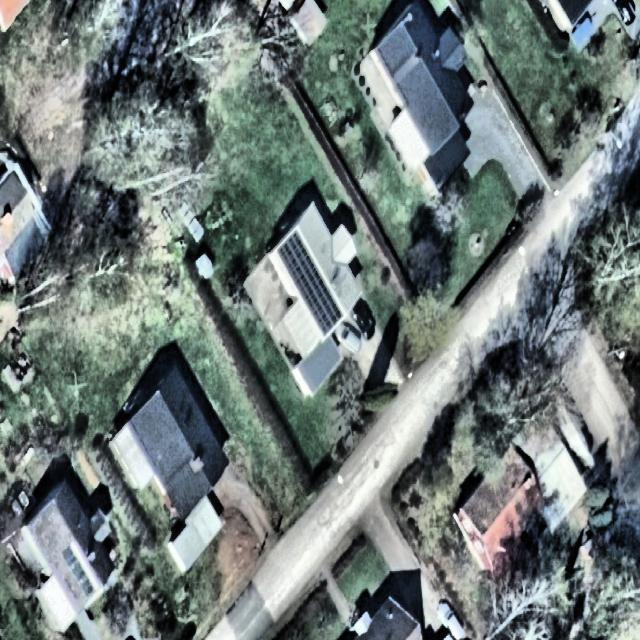roof_pv: (304, 288, 344, 339), (277, 232, 316, 282), (295, 264, 330, 304)
